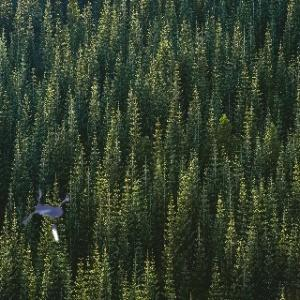drone: (11, 181, 87, 257)
